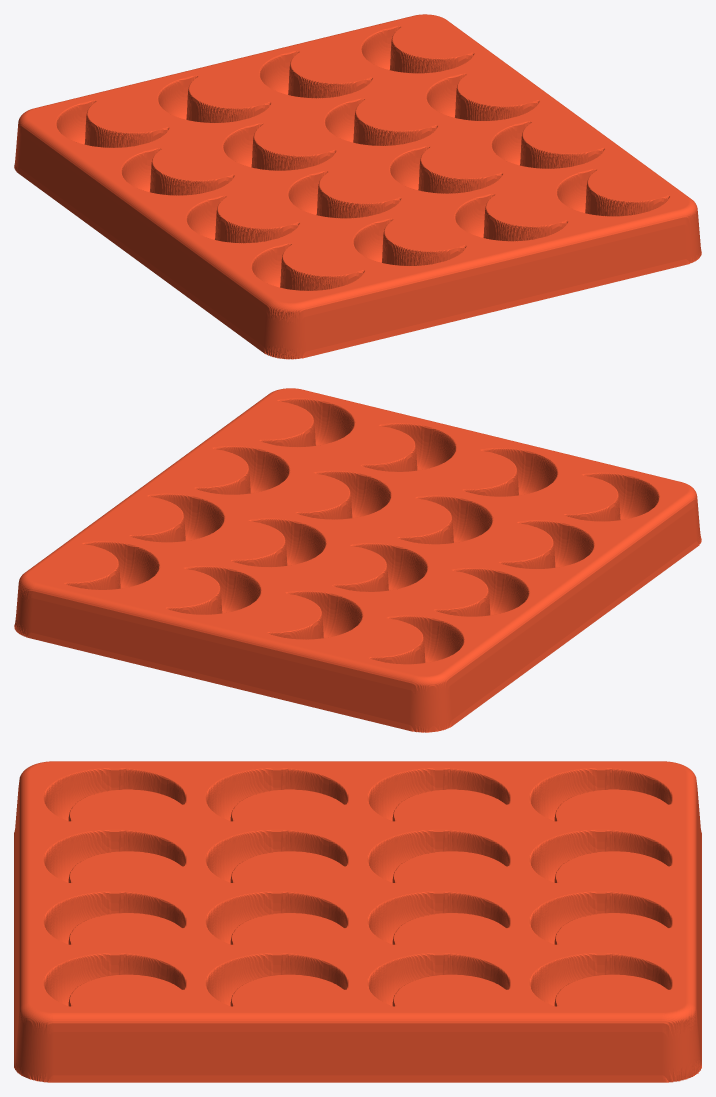
The model's file is mold.glb.
3 views of the same model, one above another, from view 1: azimuth 30°, elevation 25°; view 2: azimuth 150°, elevation 25°; view 3: azimuth 270°, elevation 25° (orthographic). The views are drawn at different scales.
Parts seen in each view (by area): view 1: geometry_0; view 2: geometry_0; view 3: geometry_0.
Part boxes in pixels (box(x1,y1,x2,y2)): geometry_0: box(14, 14, 701, 359); geometry_0: box(14, 388, 701, 732); geometry_0: box(14, 761, 701, 1082).
Bounding box in the file's own units: 0.1423 × 0.0159 × 0.1569.
